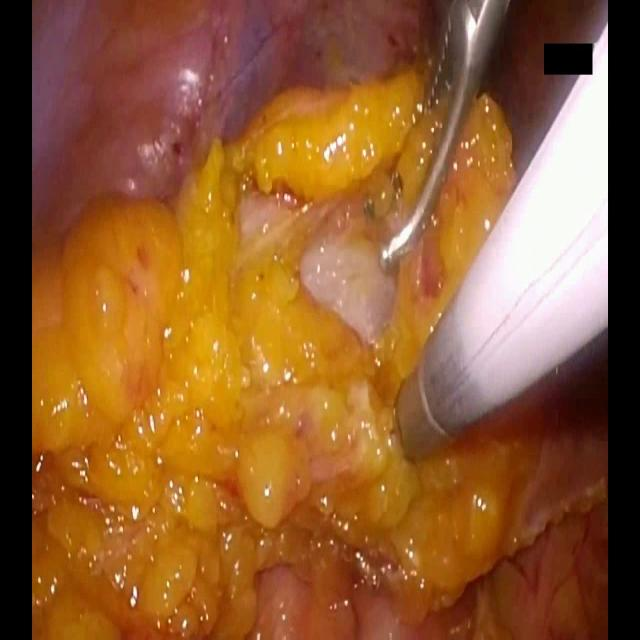surgical-area: (30, 0, 609, 639)
surgical-tool: (394, 22, 609, 461), (378, 0, 510, 273)
